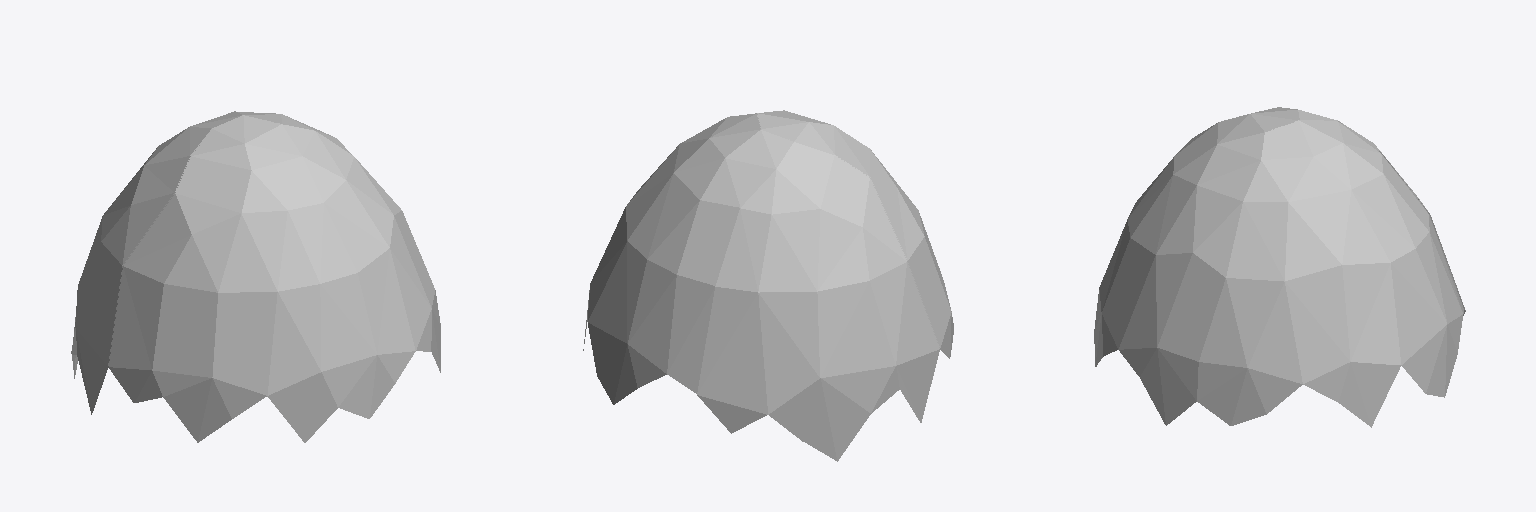
The model's file is eggshelltop.obj.
3 renders of one model, left to right at view 1: azimuth 30°, elevation 25°; view 2: azimuth 150°, elevation 25°; view 3: azimuth 270°, elevation 25°, orthographic.
Parts seen in each view (by area): view 1: Sphere.001_Sphere.005; view 2: Sphere.001_Sphere.005; view 3: Sphere.001_Sphere.005.
Boxes of the visible parts, x1,y1,x2,y2 form: Sphere.001_Sphere.005: [71, 111, 440, 442]; Sphere.001_Sphere.005: [583, 110, 953, 461]; Sphere.001_Sphere.005: [1094, 107, 1465, 427].
Bounding box in the file's own units: 0.1738 × 0.1394 × 0.1749.